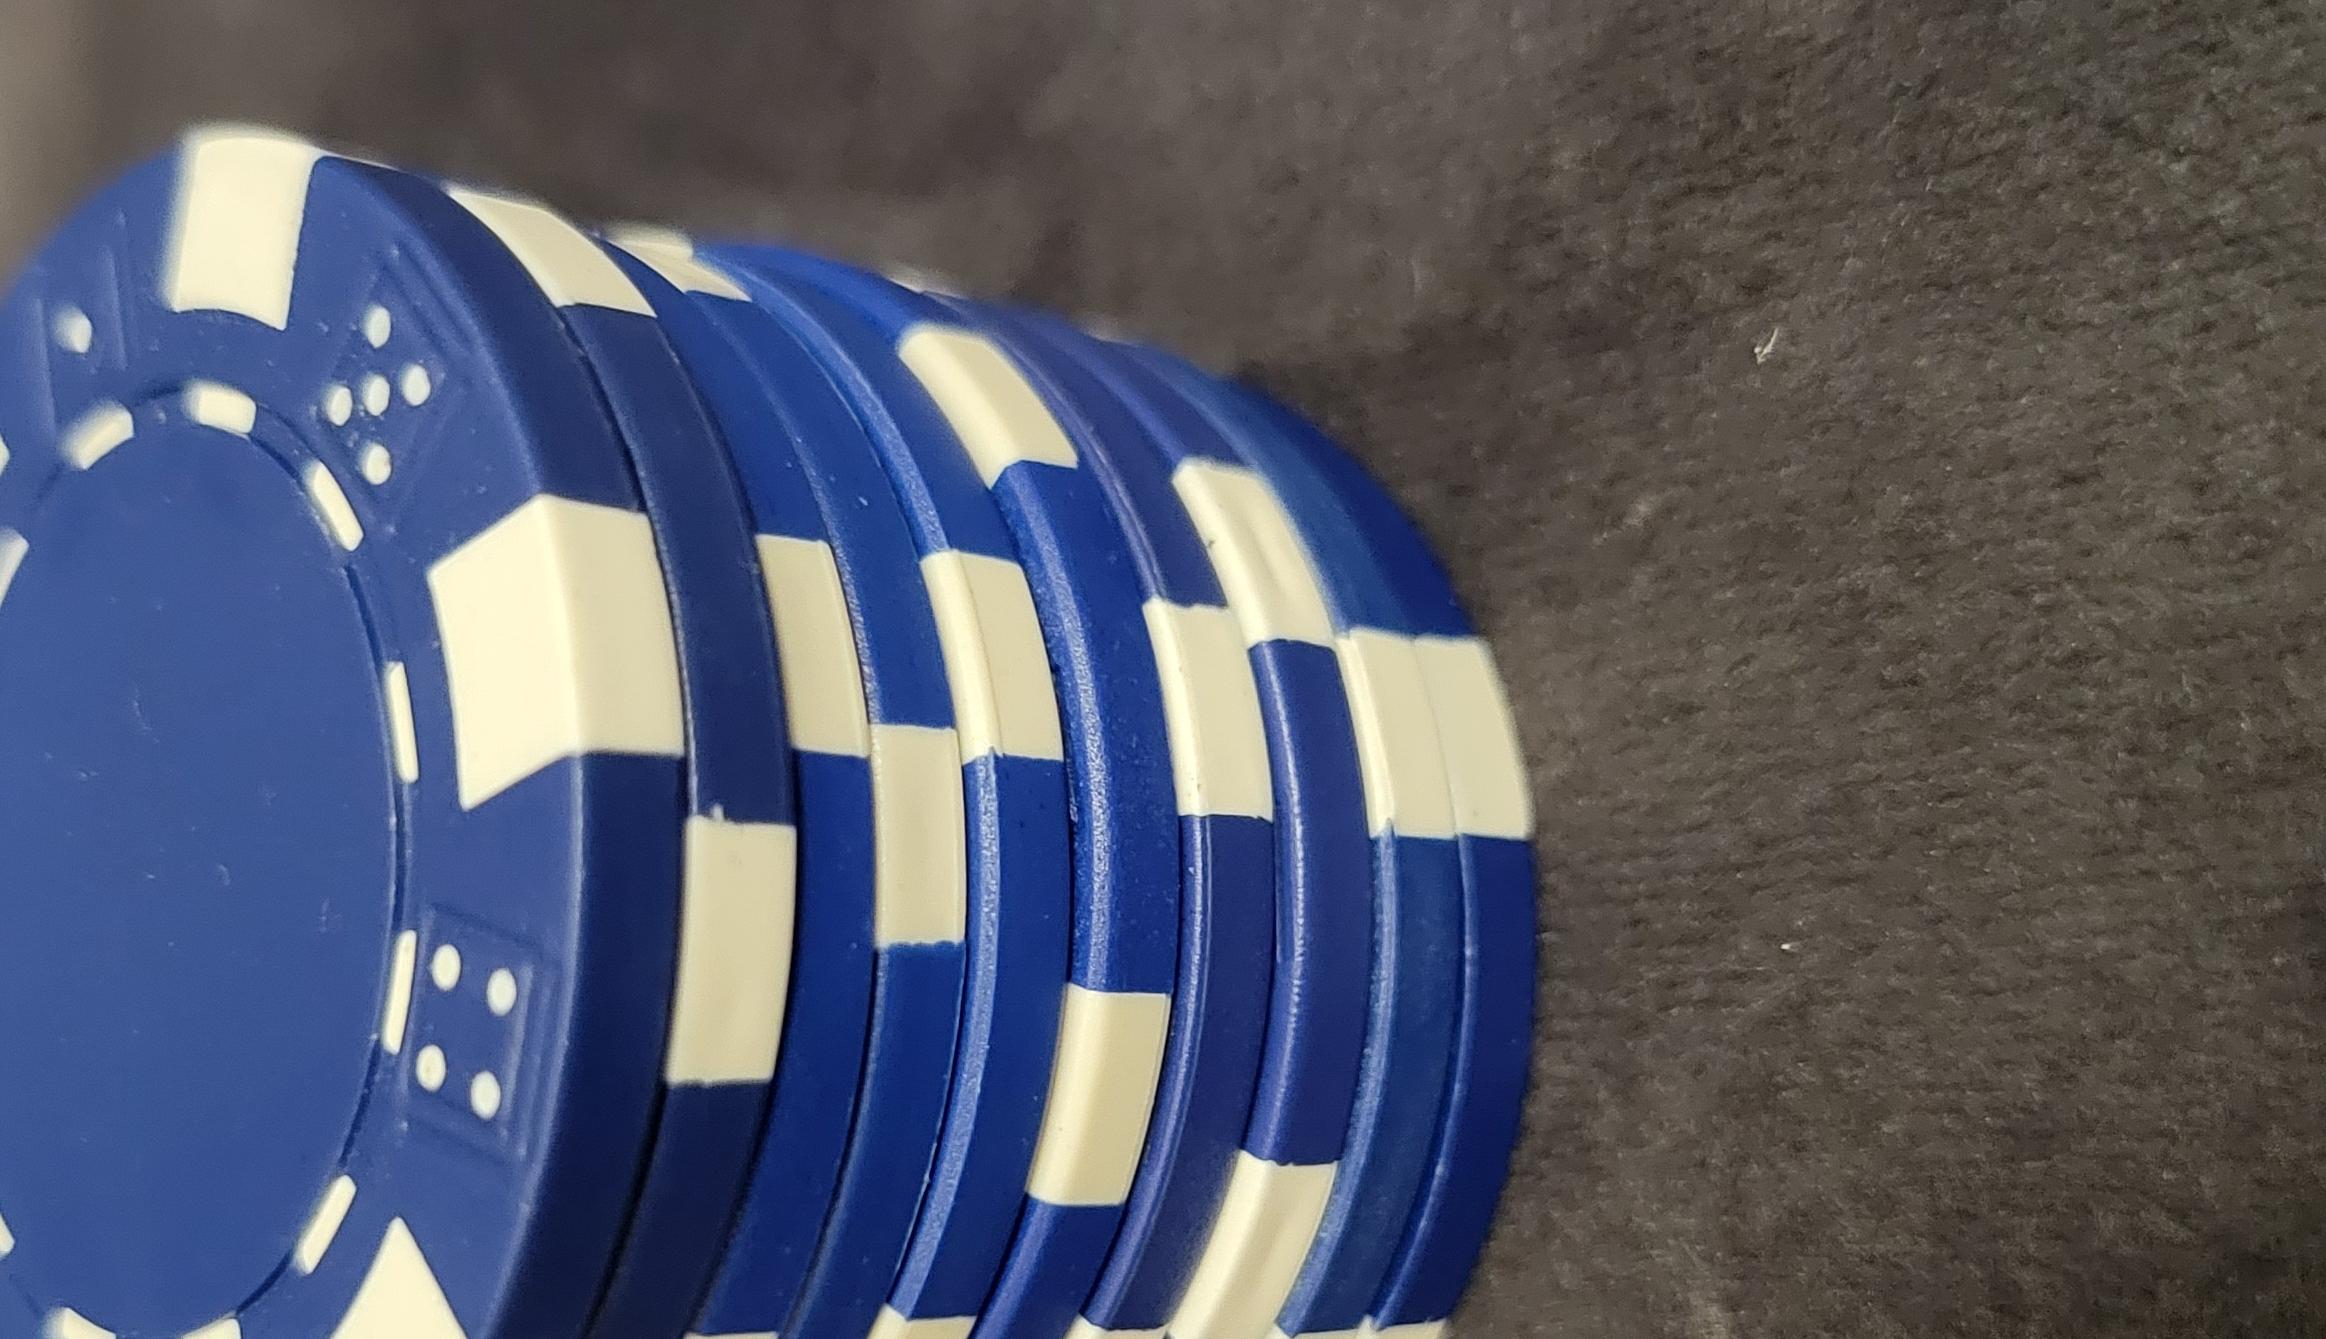Chip: (2, 185, 1511, 1339)
